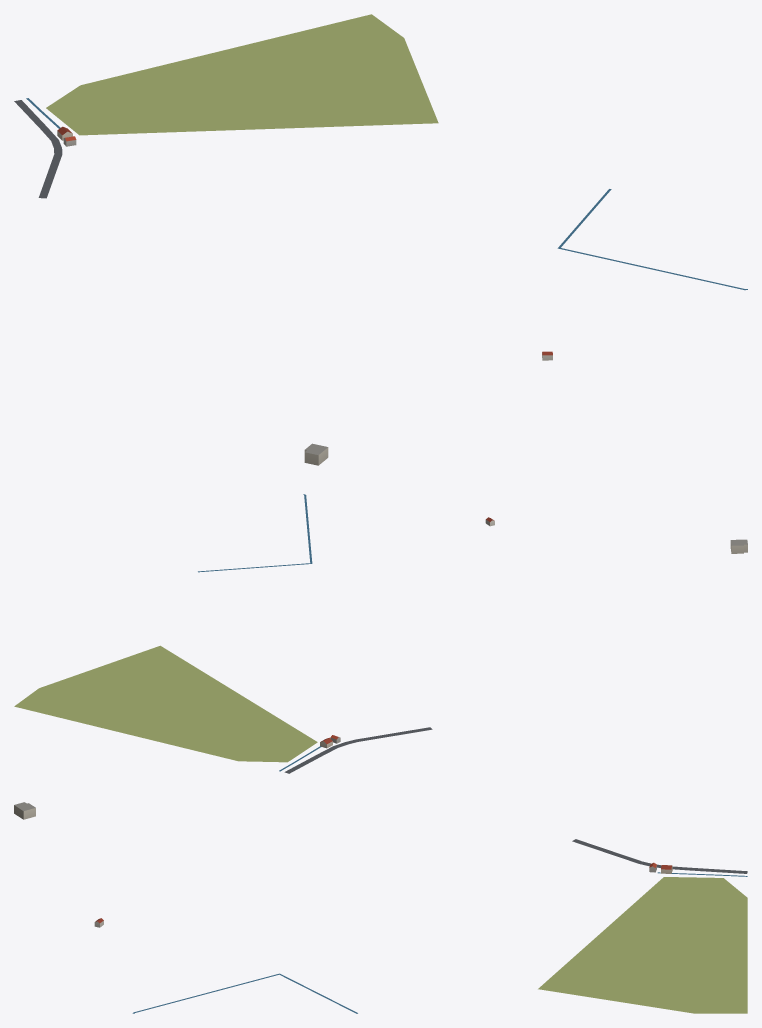
3 views of the same model, one above another, from view 1: azimuth 30°, elevation 25°; view 2: azimuth 150°, elevation 25°; view 3: azimuth 270°, elevation 25° (orthographic). The views are drawn at different scales.
Parts seen in each view (by area): view 1: landuse, roads; view 2: landuse, roads; view 3: landuse, roads, water, buildings_walls.
Part boxes in pixels (left/top/right/bottom): landuse: left=46, top=14, right=438, bottom=135; roads: left=14, top=100, right=62, bottom=198; landuse: left=14, top=645, right=317, bottom=762; roads: left=284, top=727, right=432, bottom=773; landuse: left=538, top=877, right=747, bottom=1013; roads: left=572, top=839, right=747, bottom=873; water: left=132, top=872, right=747, bottom=1013; buildings_walls: left=14, top=805, right=672, bottom=927.
Bounding box in the file's own units: 326 × 6.42 × 496.
